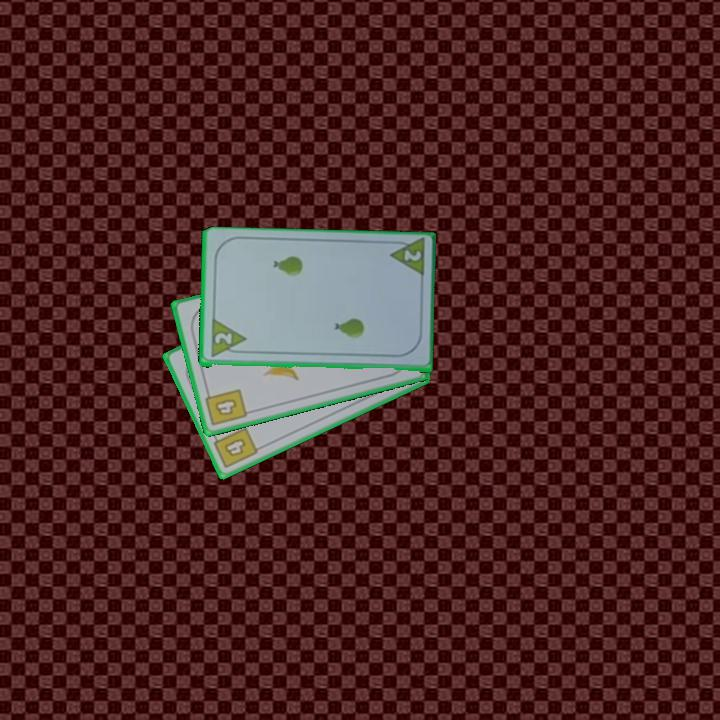2p: (211, 329, 235, 348), (400, 247, 424, 264)
4b: (209, 424, 261, 472), (202, 386, 250, 429)
